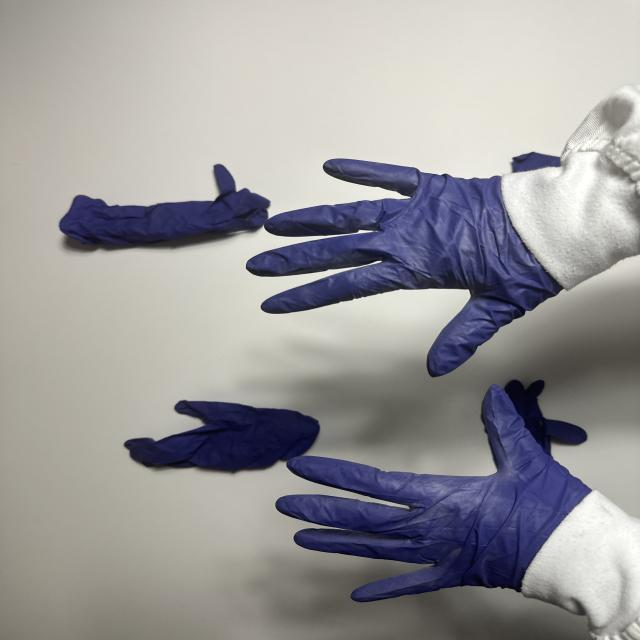gloves_contaminated: (247, 159, 562, 376), (276, 385, 591, 602)
